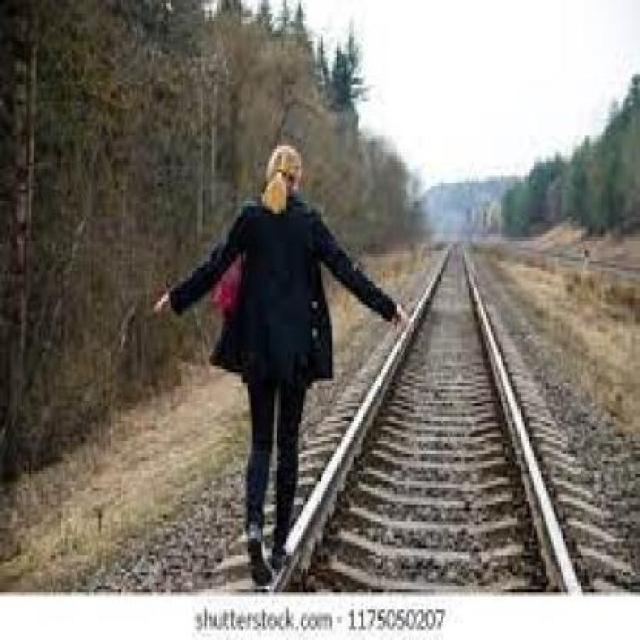danger: (168, 148, 404, 614)
rail: (204, 226, 606, 594)
